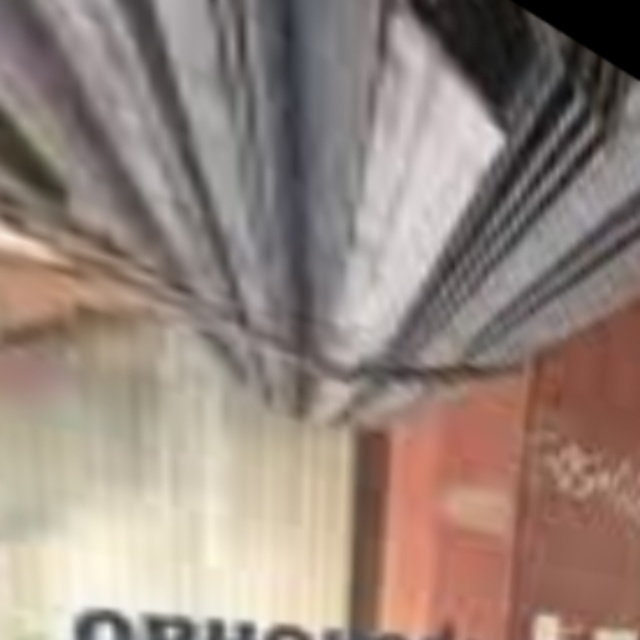Angle: (400, 0, 509, 127), (611, 69, 640, 199)
